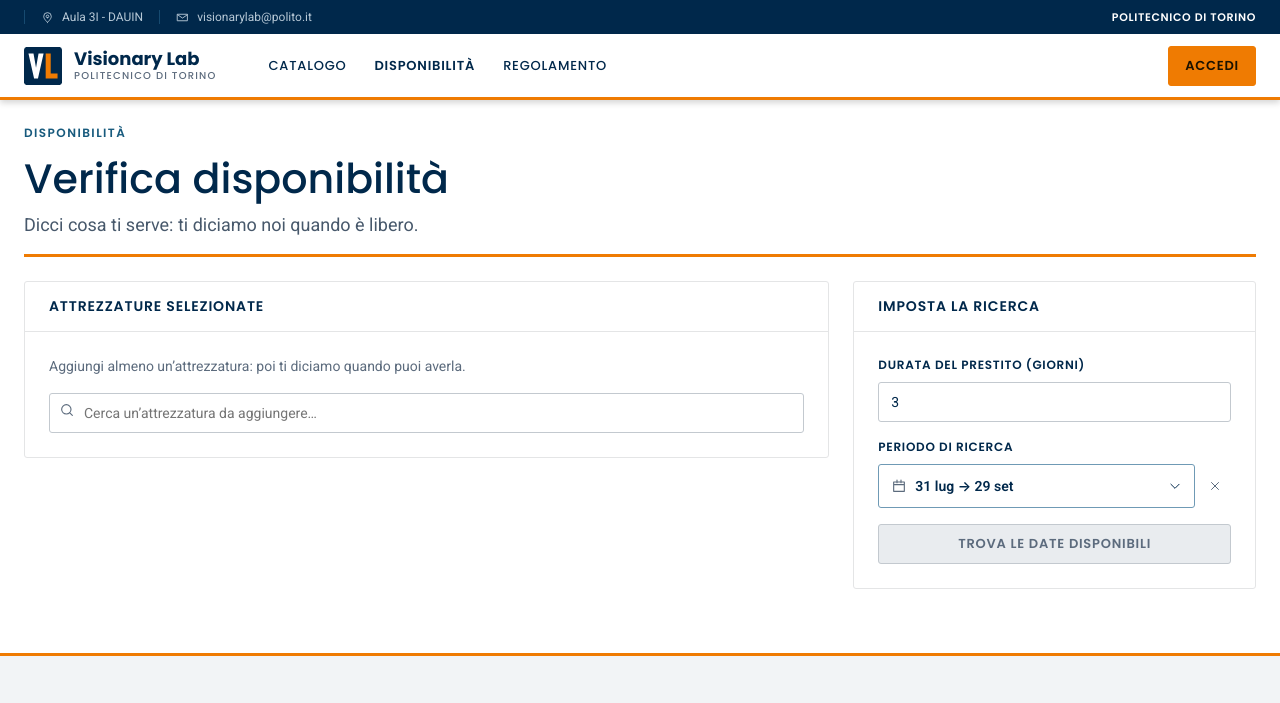
Test case: AvailabilityFinderPage (products → dates) › renders the "nessuna finestra" empty state when first_available_window is null
Expected: the heading "Verifica disponibilità" is shown, [24, 150, 449, 207]
Type "visore" into the search field.
click(427, 413); type("visore")  # box [49, 393, 804, 433]
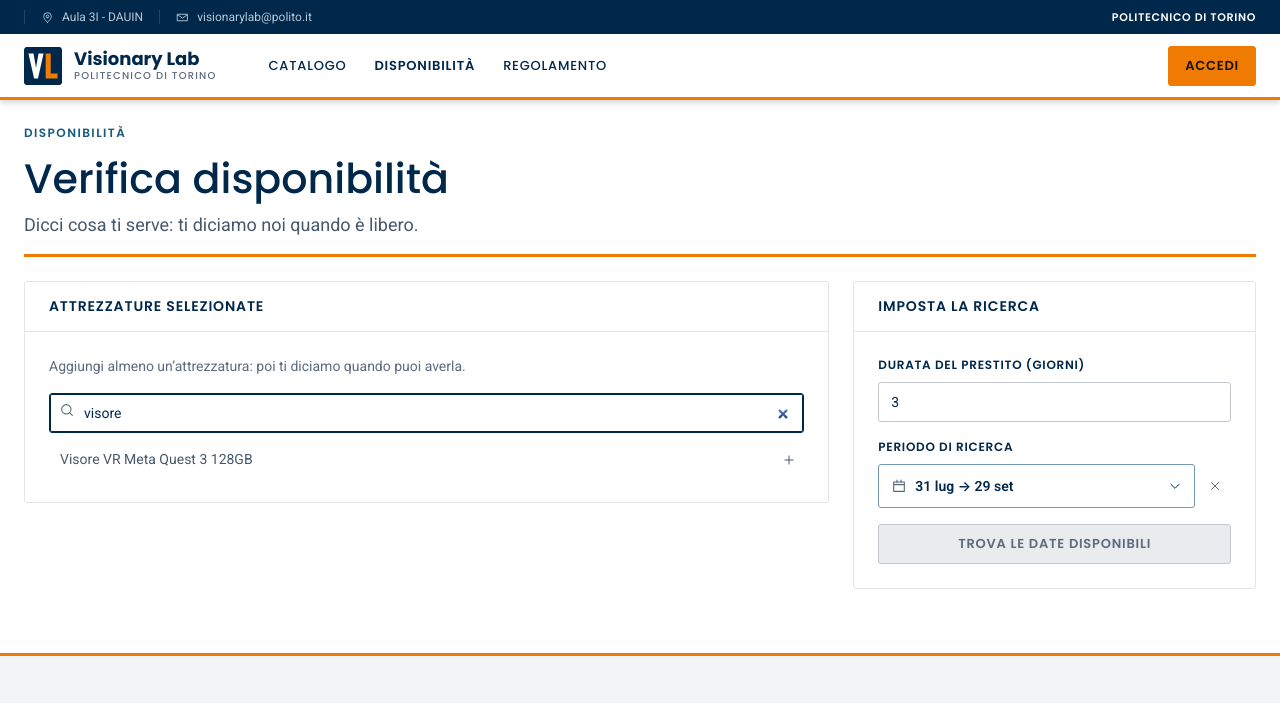
Click the button "Visore VR Meta Quest 3 128GB".
click(156, 459)  # box [49, 441, 804, 478]
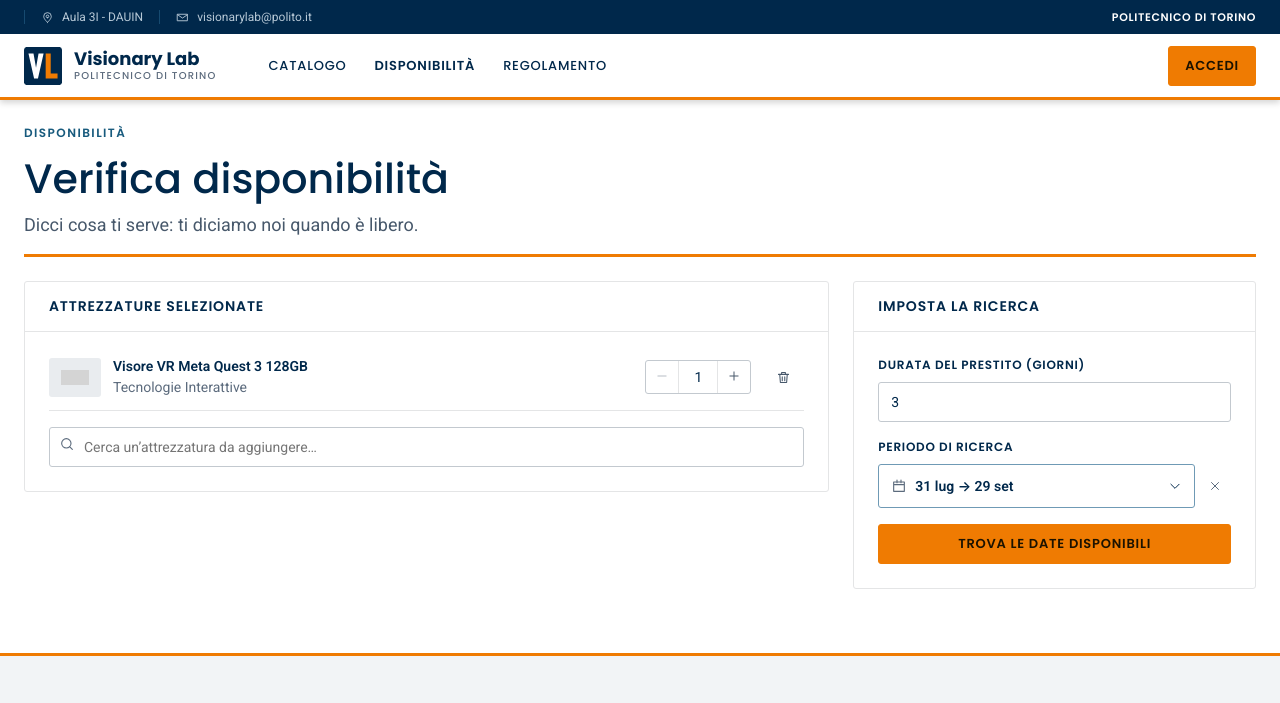
Click the button "Trova le date disponibili".
click(1055, 544)  # box [878, 524, 1231, 564]
(page scrolled)
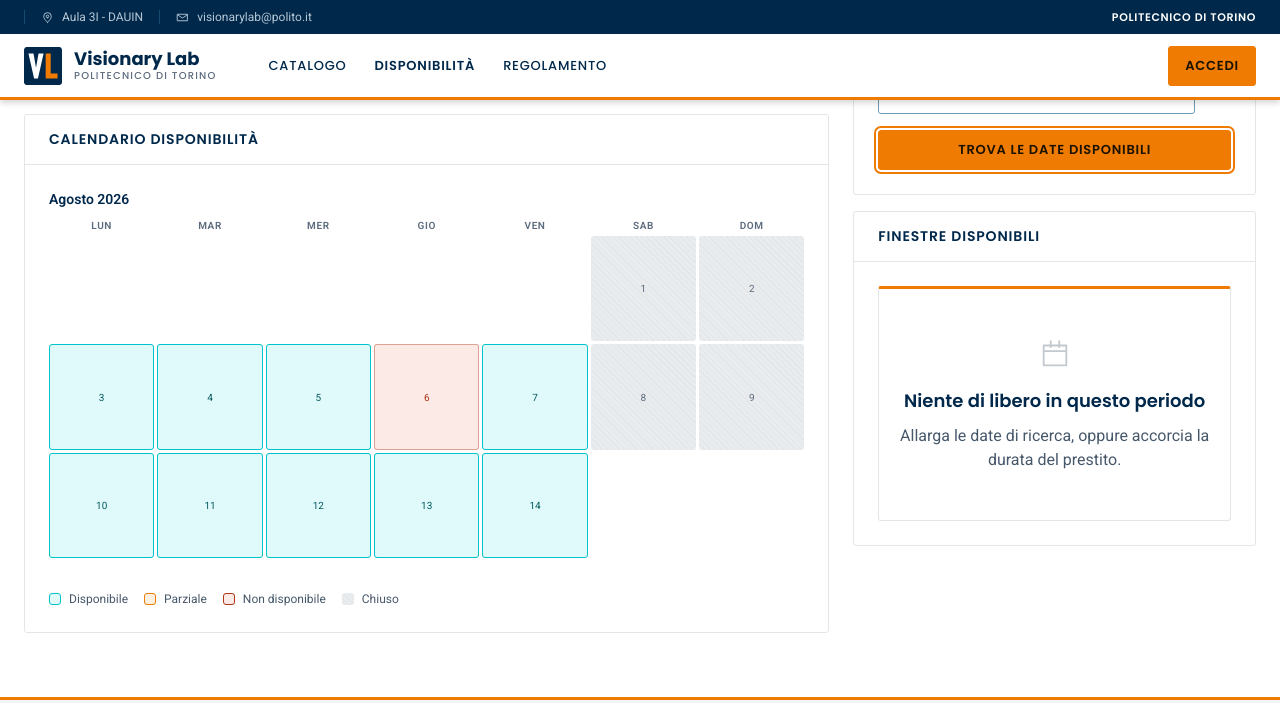
Expected: the heading "Niente di libero in questo periodo" is shown, [904, 390, 1205, 412]
